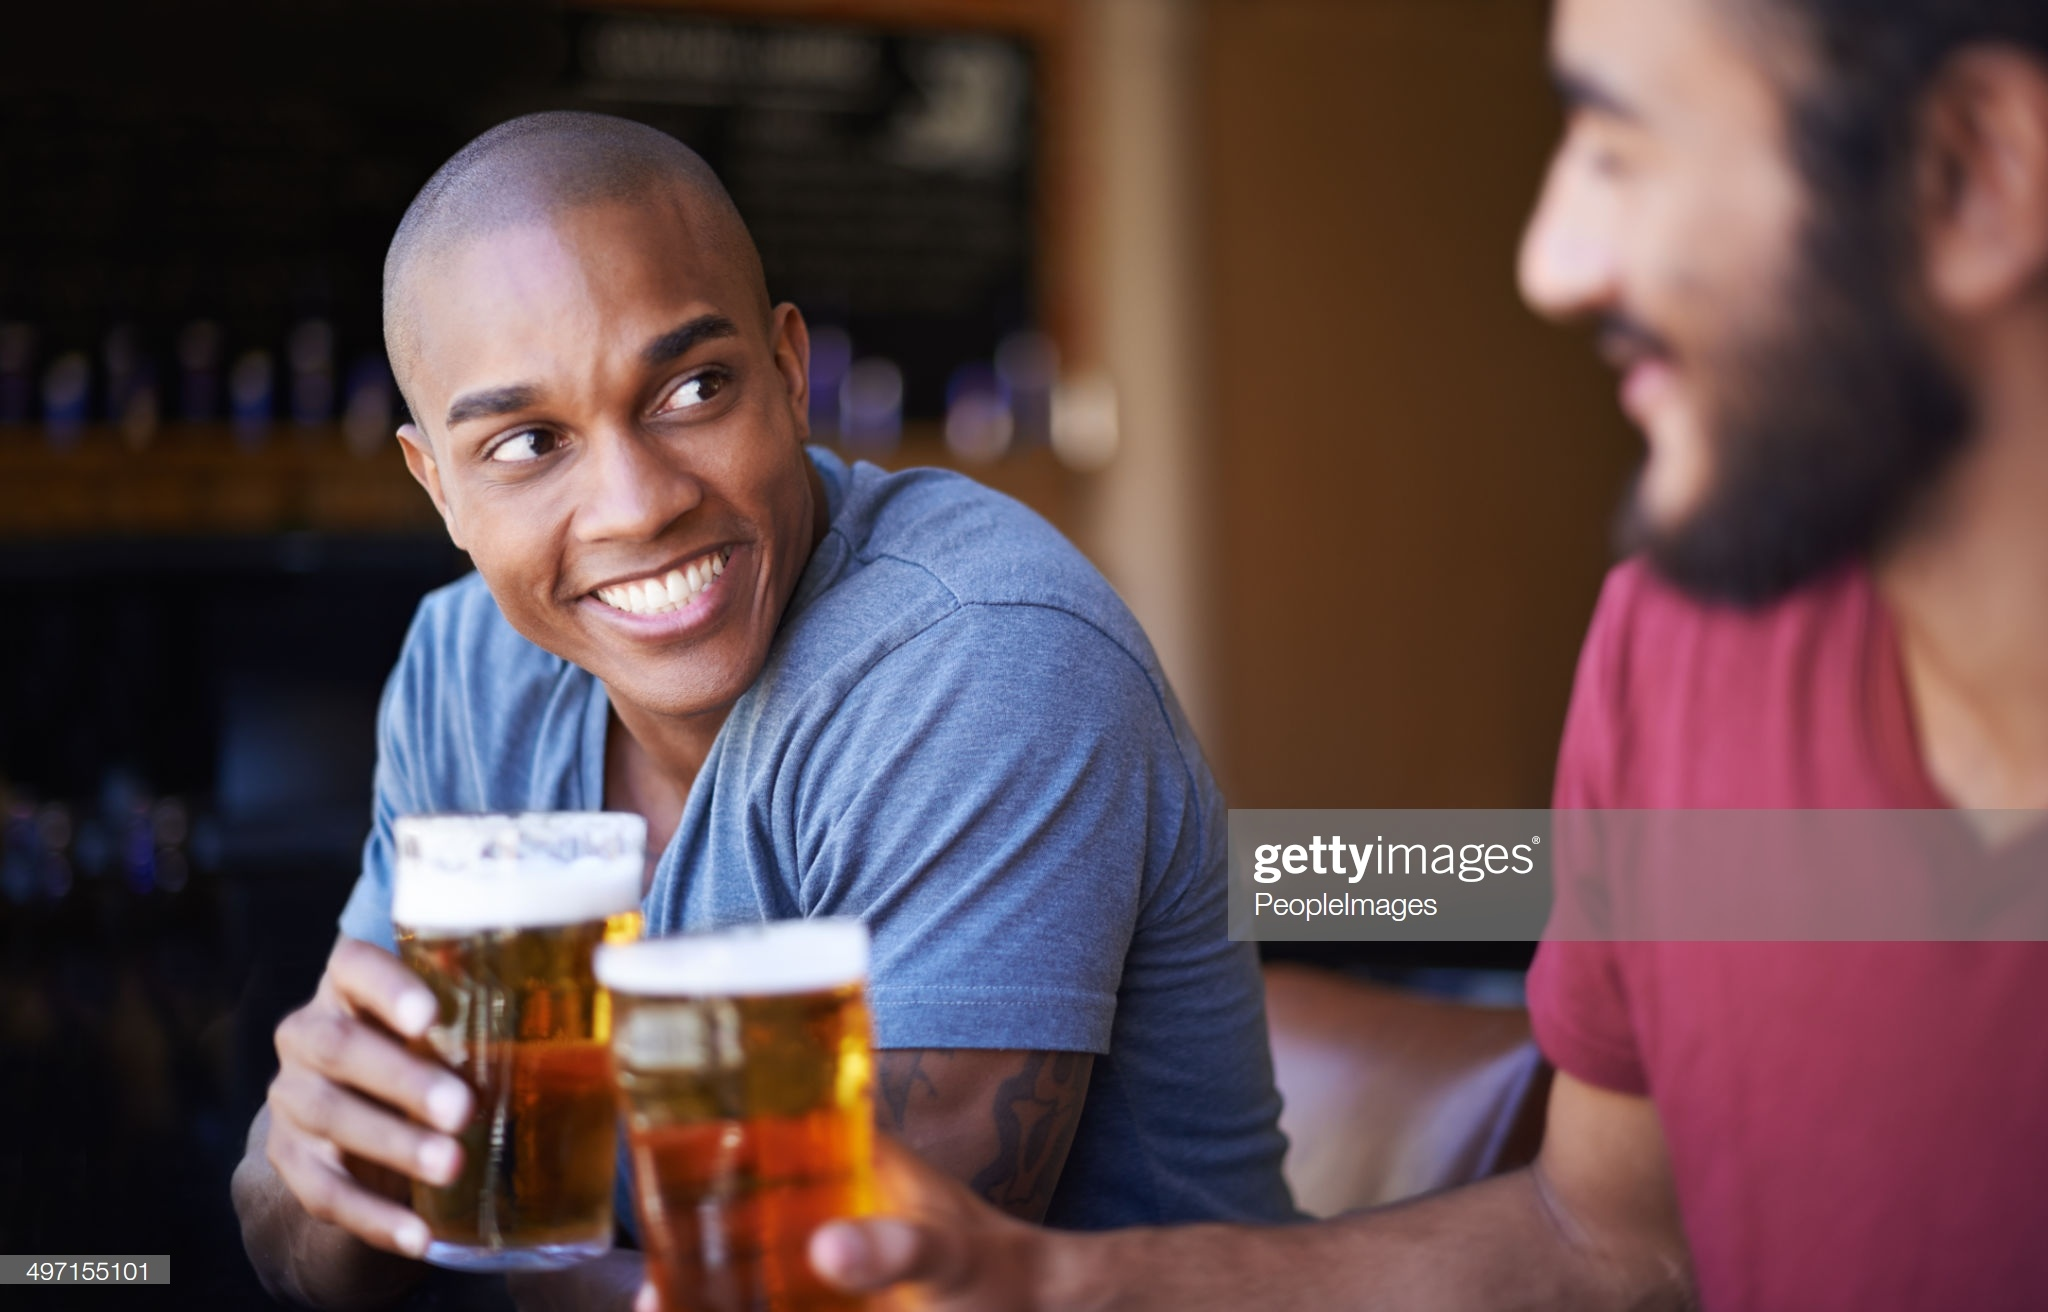glassBeer: (593, 922, 896, 1311), (369, 813, 616, 1260)
